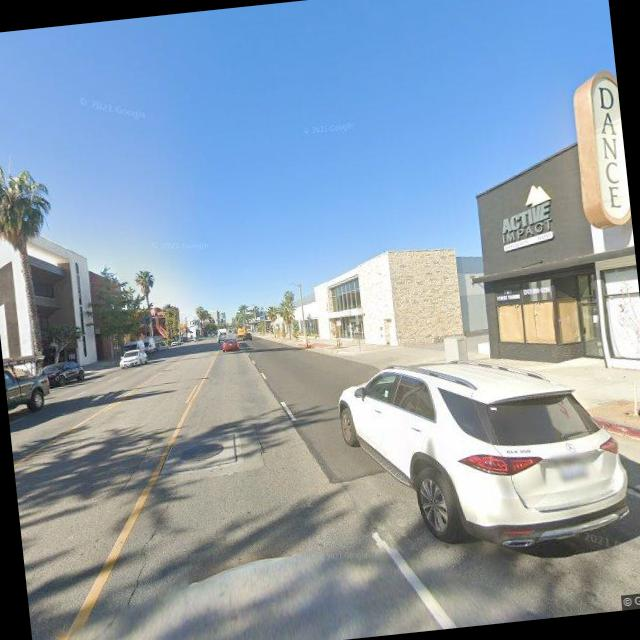pothole: (112, 497, 178, 606), (110, 434, 160, 491), (246, 416, 268, 469)
